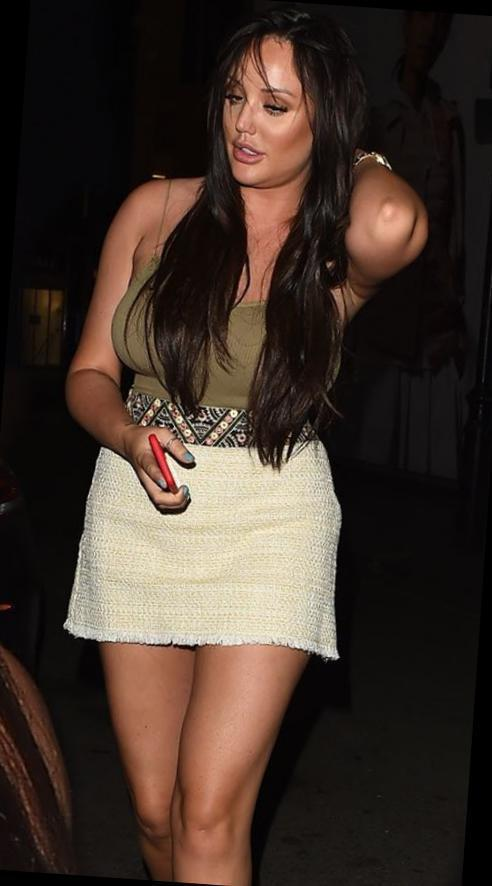Drunk: (225, 52, 309, 184)
